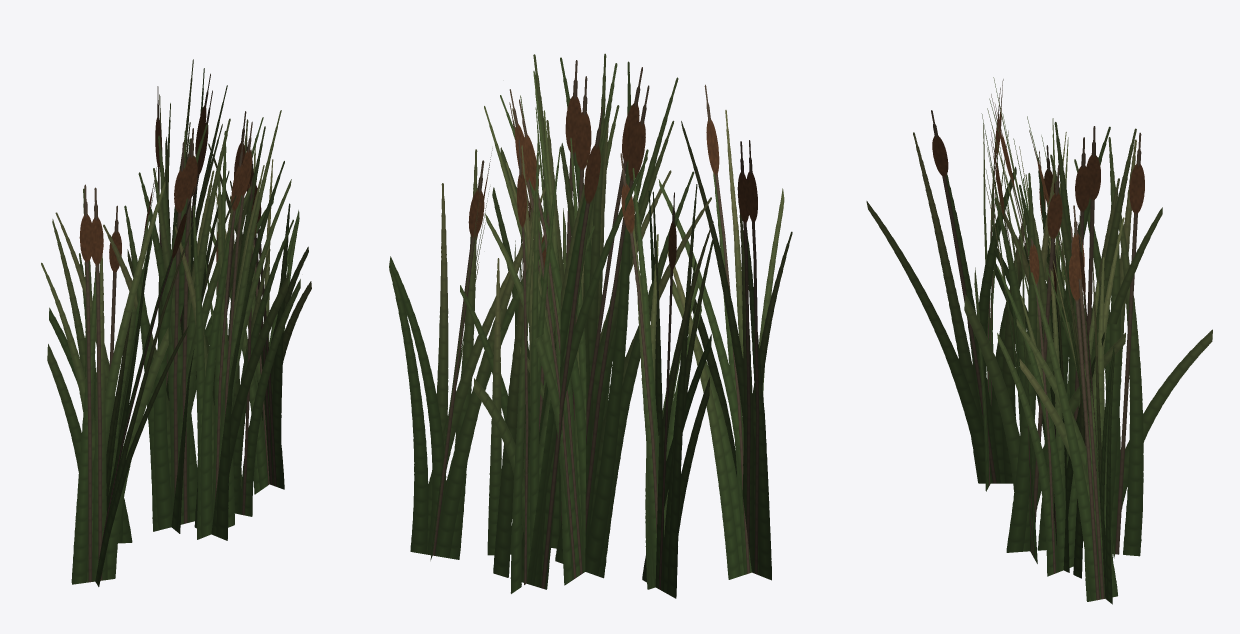
Rendered from orobinec_3.glb.
3 views of the same model, side by side, from view 1: azimuth 30°, elevation 25°; view 2: azimuth 150°, elevation 25°; view 3: azimuth 270°, elevation 25° (orthographic). The views are drawn at different scales.
Visible parts, largest first — view 1: orobinec_3; view 2: orobinec_3; view 3: orobinec_3.
Boxes of the visible parts, x1=… form: orobinec_3: x1=41, y1=59, x2=311, y2=586; orobinec_3: x1=389, y1=53, x2=792, y2=598; orobinec_3: x1=866, y1=77, x2=1212, y2=604.
Bounding box in the file's own units: 1.57 × 1.97 × 1.42.
1 material, 1 textured.
